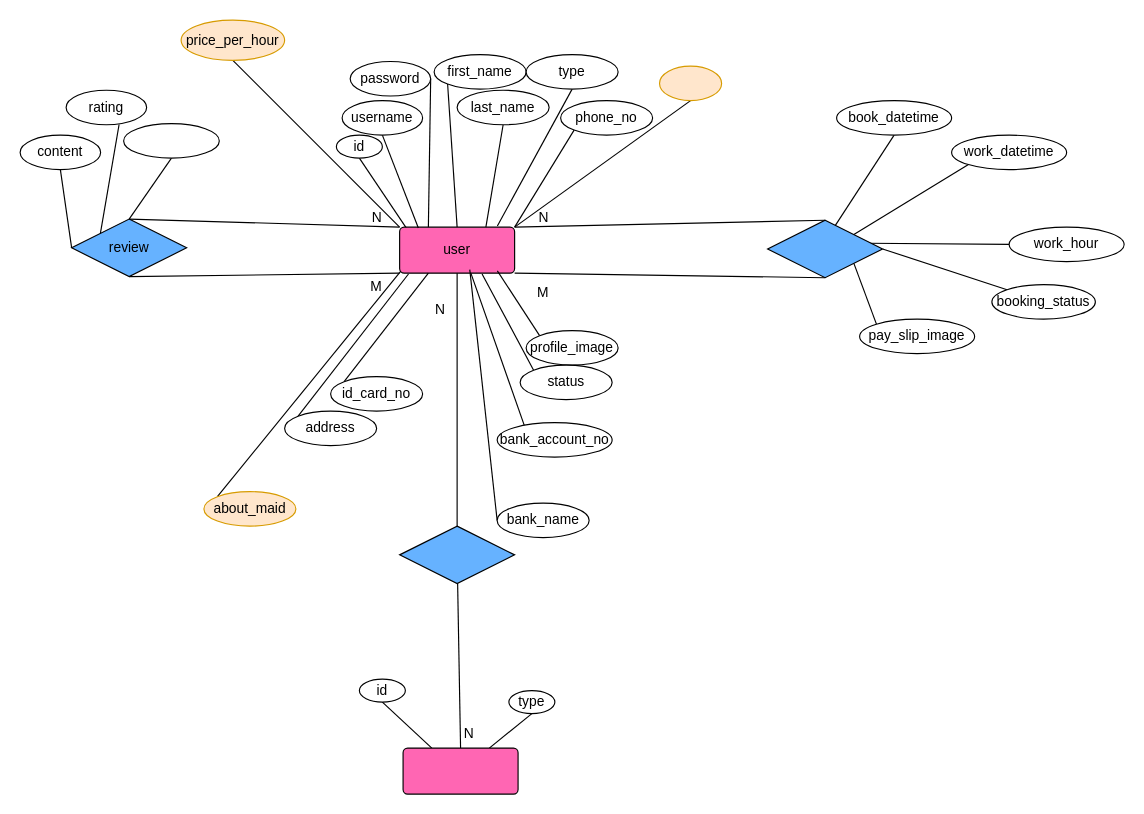
Some shapes in this 1144 by 814 pixel diagram are drawn without their labels. Each missing label, with the box of its shape:
book: (766, 219, 883, 278)
building_type: (402, 747, 518, 794)
holidays: (658, 65, 722, 101)
reviewed_date: (122, 122, 219, 158)
serve: (398, 525, 515, 584)
